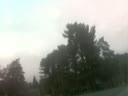window: (121, 63, 127, 77)
